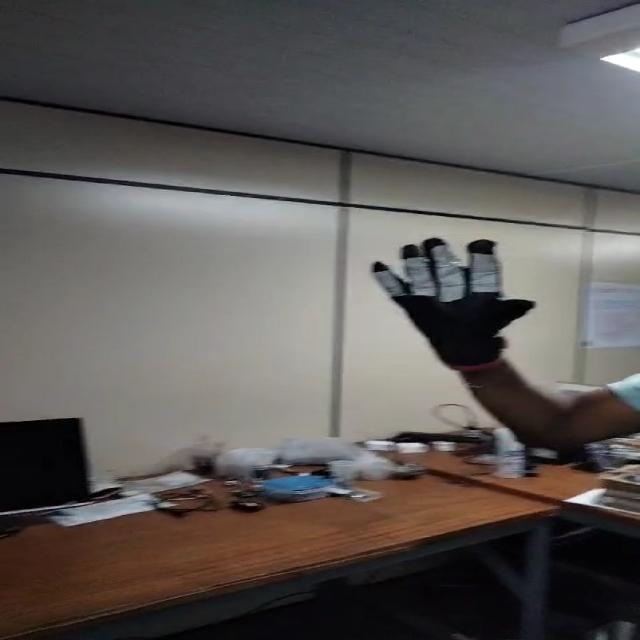Gloves: (358, 235, 542, 369)
